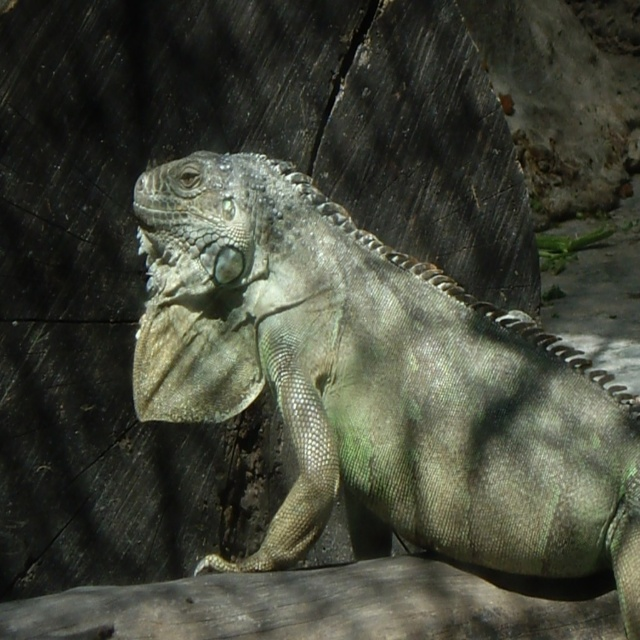Lizard: (114, 109, 632, 603)
